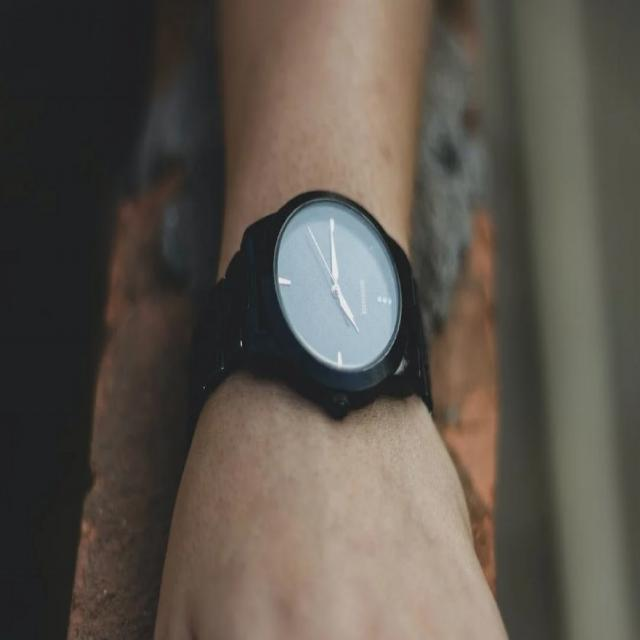Watch: (195, 182, 430, 418)
